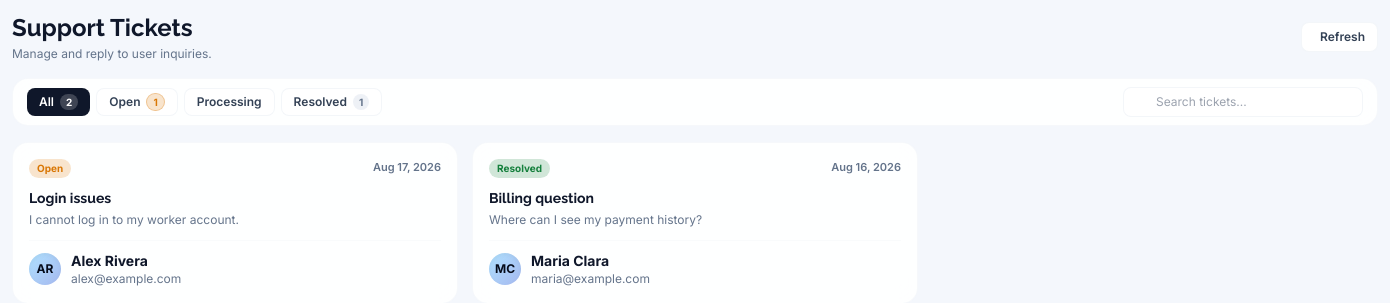
Test case: SupportTicketsPage Component › filters support tickets by status tabs
Check: the heading "Login issues" is shown, box 29,190 -> 111,206
Check: the heading "Billing question" is shown, box 489,190 -> 594,206
# Click "open" status filter tab
Click the button "Open 1" at (137, 102), box 96,88 -> 178,116
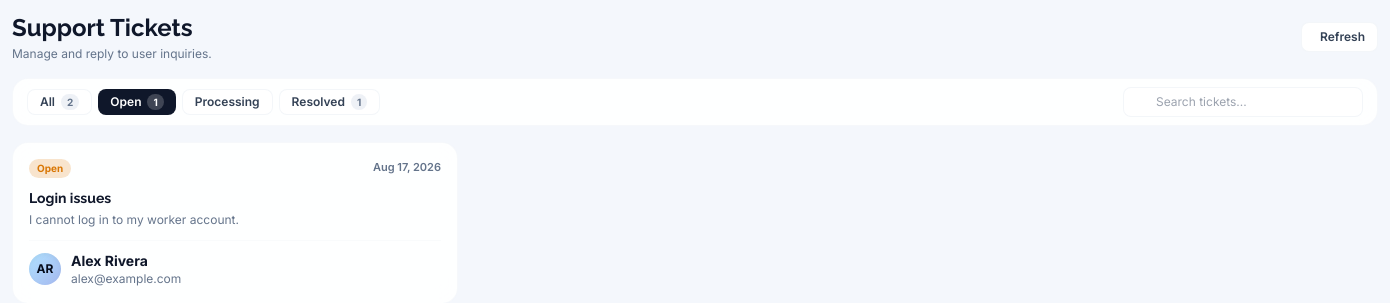
Check: the heading "Login issues" is shown, box 29,190 -> 111,206
Check: the heading "Billing question" is gone
# Click "resolved" status filter tab
Click the button "Resolved 1" at (329, 102), box 279,89 -> 380,115
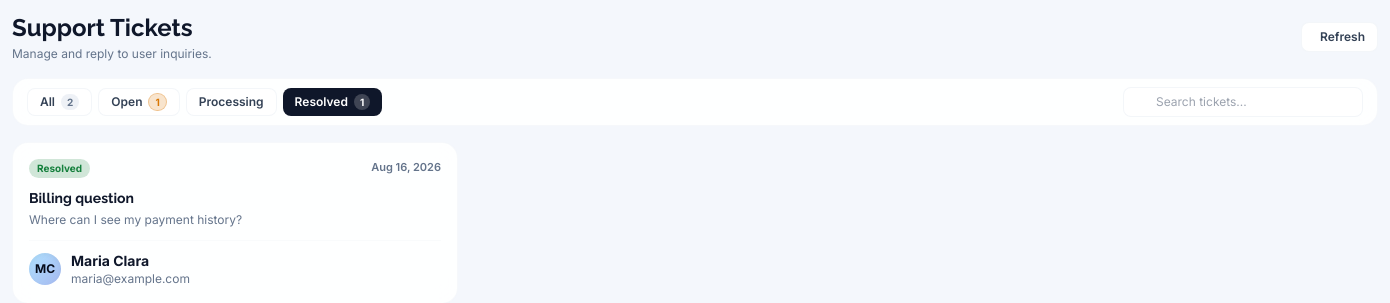
Check: the heading "Login issues" is gone
Check: the heading "Billing question" is shown, box 29,190 -> 134,206
